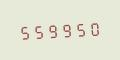five: (17, 22, 30, 41), (31, 21, 44, 40), (74, 19, 87, 38)
nine: (46, 20, 59, 40), (60, 20, 73, 39)
zero: (88, 18, 101, 37)
